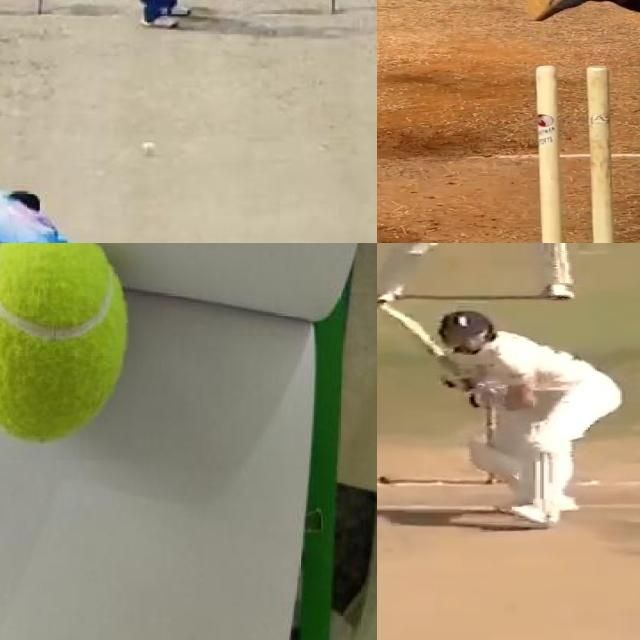Cricket ball: (0, 243, 164, 459), (141, 139, 157, 161), (377, 472, 401, 486)
Stumps: (531, 61, 640, 243)
